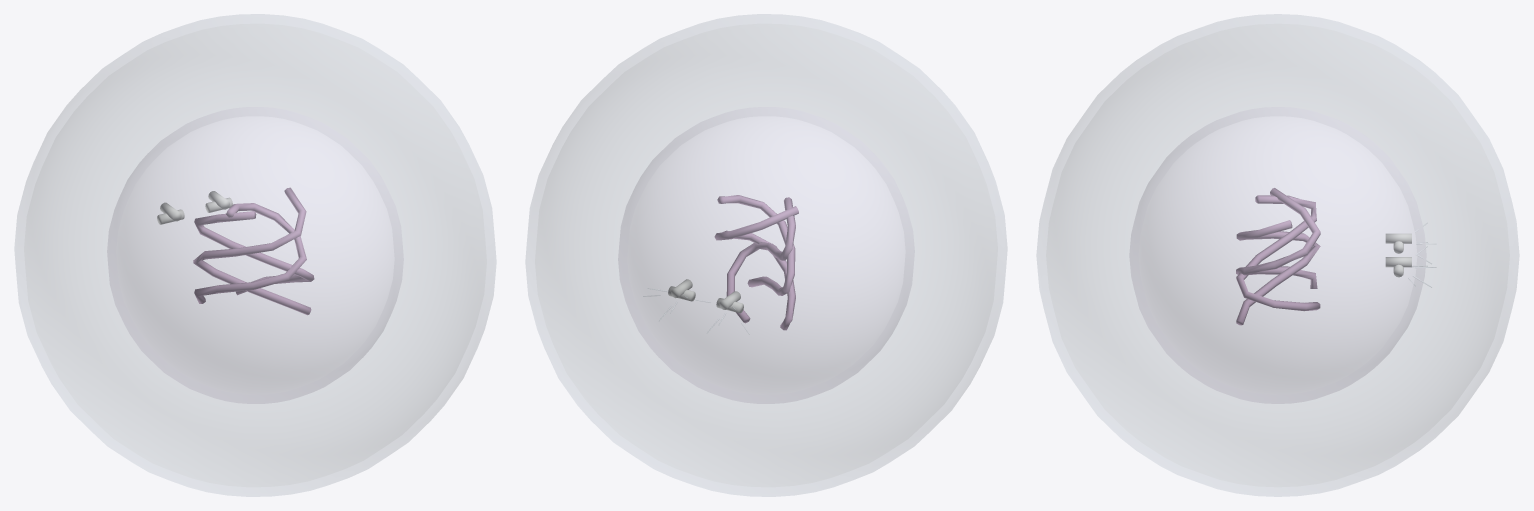
Rendered from mitosis_animation.glb.
The picture shows the model from 3 angles, left to right: view 1: azimuth 30°, elevation 25°; view 2: azimuth 150°, elevation 25°; view 3: azimuth 270°, elevation 25°; orthographic projection.
Parts seen in each view (by area): view 1: Cell_Membrane_Cycle, Nuclear_Envelope_Cycle, Chromatin_Cycle_02, Chromatin_Cycle_03, Chromatin_Cycle_01; view 2: Cell_Membrane_Cycle, Nuclear_Envelope_Cycle, Chromatin_Cycle_03, Chromatin_Cycle_02, Chromatin_Cycle_01; view 3: Cell_Membrane_Cycle, Nuclear_Envelope_Cycle, Chromatin_Cycle_01, Chromatin_Cycle_03, Chromatin_Cycle_02.
Boxes of the visible parts, x1,y1,x2,y2 form: Cell_Membrane_Cycle: (14,14,496,496); Nuclear_Envelope_Cycle: (107,107,403,403); Chromatin_Cycle_02: (193,187,311,314); Chromatin_Cycle_03: (194,203,306,303); Chromatin_Cycle_01: (194,211,314,294); Cell_Membrane_Cycle: (525,14,1007,496); Nuclear_Envelope_Cycle: (618,107,914,403); Chromatin_Cycle_03: (714,206,798,330); Chromatin_Cycle_02: (717,195,795,295); Chromatin_Cycle_01: (726,197,795,323); Cell_Membrane_Cycle: (1036,14,1519,496); Nuclear_Envelope_Cycle: (1129,107,1426,403); Chromatin_Cycle_01: (1236,195,1320,310); Chromatin_Cycle_03: (1236,188,1320,288); Chromatin_Cycle_02: (1236,220,1320,325).
Size of what is drawn, in the model's own units: 5.2 by 5.2 by 5.2.
